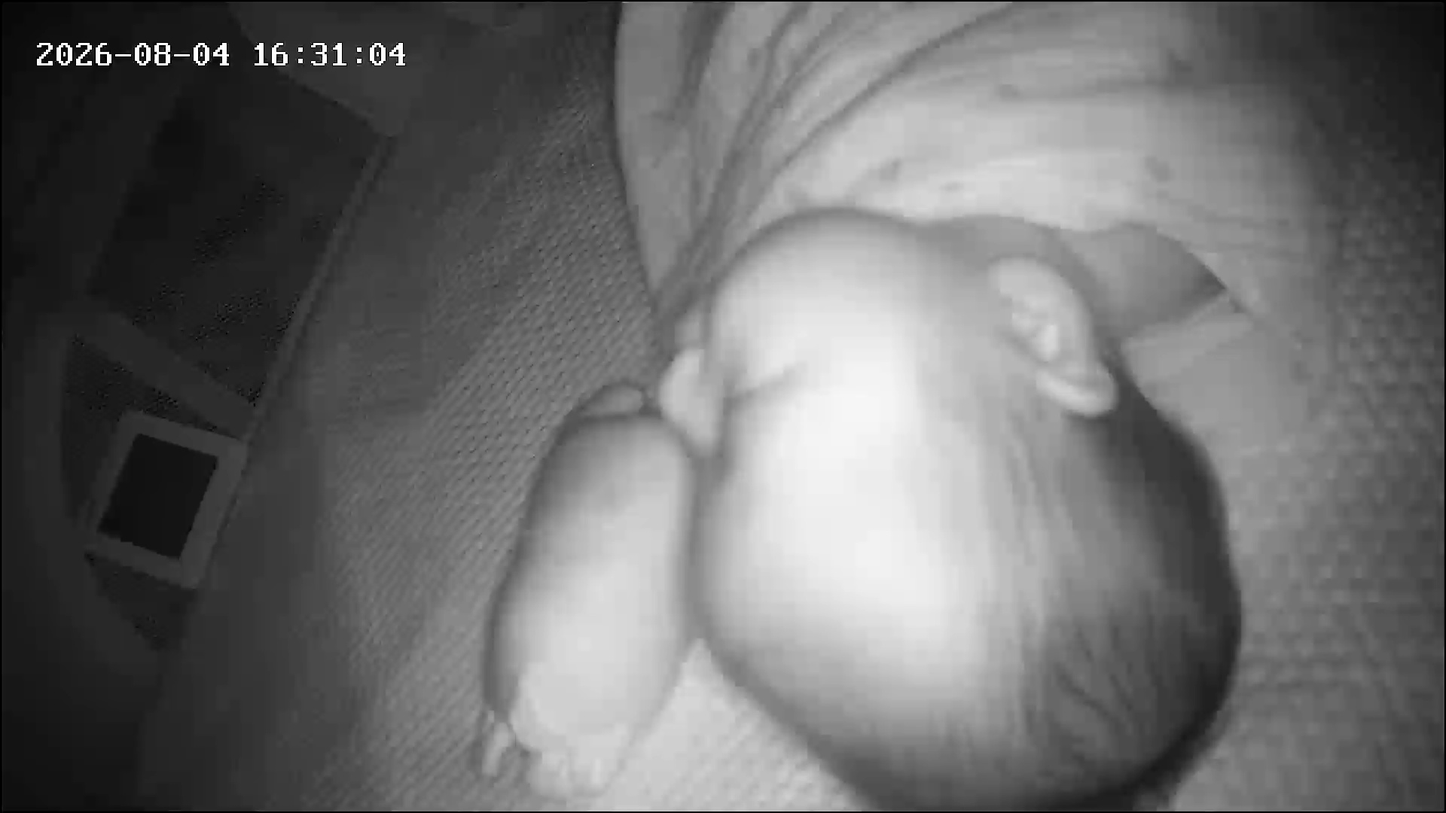baby: (578, 1, 1393, 810)
baby_face: (669, 214, 1243, 809)
